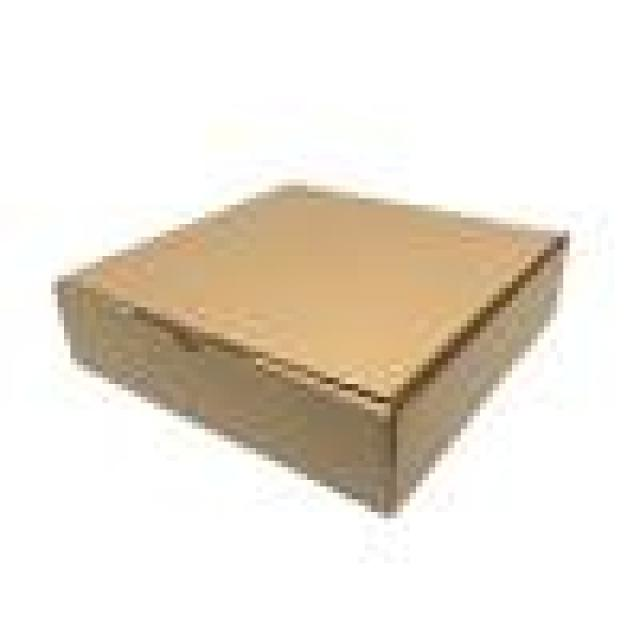Kardus kondisi bagus: (56, 177, 563, 520)
